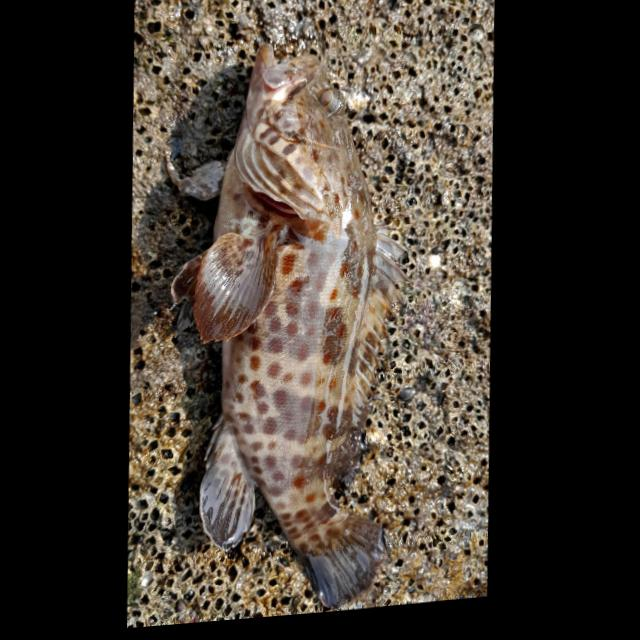Groupers: (151, 23, 426, 618)
